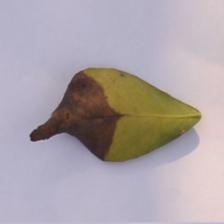black spot: (29, 59, 124, 160)
